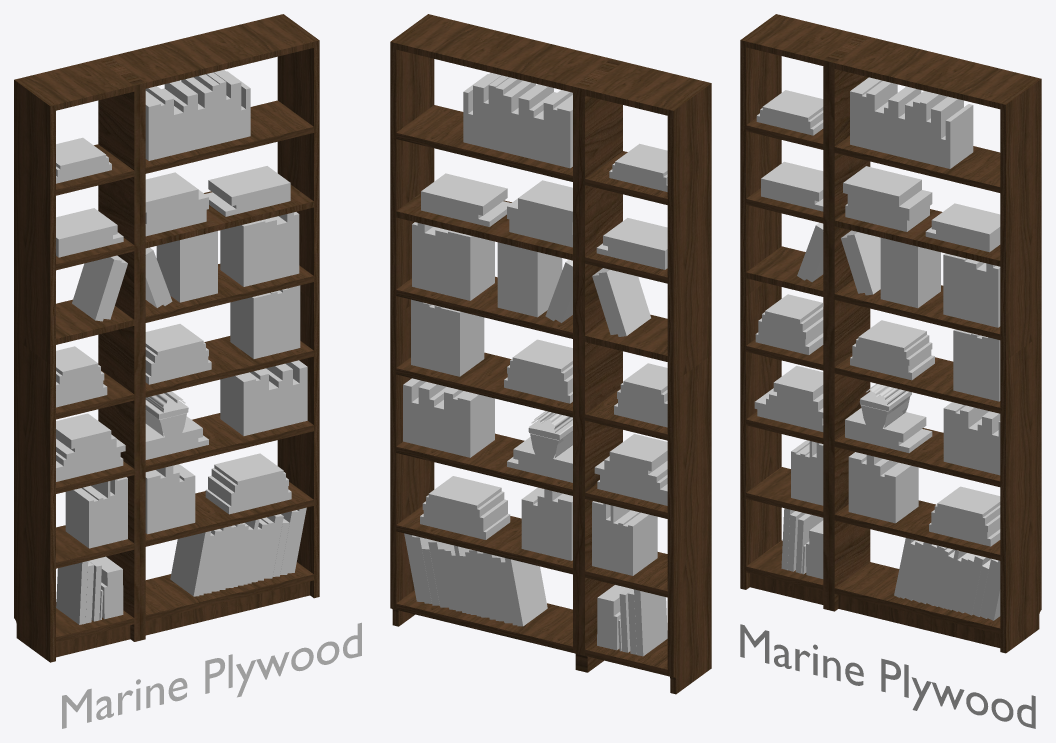
File: Marine Plywood.glb
The picture shows the model from 3 angles, left to right: view 1: azimuth 30°, elevation 25°; view 2: azimuth 150°, elevation 25°; view 3: azimuth 330°, elevation 25°; orthographic projection. The views are drawn at different scales.
Visible parts, largest first — view 1: Object.267, Object.259, Object.277, Object.268, Object.276, Marine Plywood, Object.269, Object, Object.275, Object.272, Object.273, Object.274 (+59 smaller); view 2: Object.267, Object.259, Object.277, Object.268, Object.269, Object.276, Object.275, Object, Object.272, Object.273, Object.274, Object.271 (+74 smaller); view 3: Object.277, Object.267, Object.276, Object.268, Object.259, Marine Plywood, Object.275, Object, Object.269, Object.272, Object.274, Object.273 (+73 smaller).
Boxes of the visible parts, x1,y1,x2,y2 form: Object.267: (14, 78, 55, 662); Object.259: (98, 58, 139, 641); Object.277: (277, 14, 319, 598); Object.268: (110, 15, 313, 88); Object.276: (104, 56, 145, 640); Marine Plywood: (62, 622, 361, 728); Object.269: (145, 100, 313, 173); Object: (20, 59, 134, 110); Object.275: (145, 562, 313, 621); Object.272: (145, 336, 313, 397); Object.273: (145, 413, 313, 471); Object.274: (145, 482, 313, 546); Object.267: (667, 81, 711, 694); Object.259: (579, 60, 622, 672); Object.277: (390, 14, 434, 626); Object.268: (396, 15, 610, 92); Object.269: (396, 105, 572, 181); Object.276: (573, 58, 616, 671); Object.275: (396, 590, 572, 652); Object: (585, 61, 704, 115); Object.272: (396, 352, 572, 417); Object.273: (396, 433, 572, 495); Object.274: (396, 506, 572, 574); Object.271: (396, 276, 572, 338); Object.277: (1000, 77, 1041, 653); Object.267: (740, 14, 781, 589); Object.276: (829, 35, 870, 611); Object.268: (834, 37, 1035, 109); Object.259: (823, 34, 864, 609); Marine Plywood: (740, 624, 1035, 728); Object.275: (834, 562, 1000, 634); Object: (746, 15, 858, 65); Object.269: (834, 136, 1000, 192); Object.272: (834, 355, 1000, 413); Object.274: (834, 500, 1000, 560); Object.273: (834, 428, 1000, 486).
Size of the model in its own units: 1.36 by 2.69 by 0.3255.
2 materials, 2 textured.
